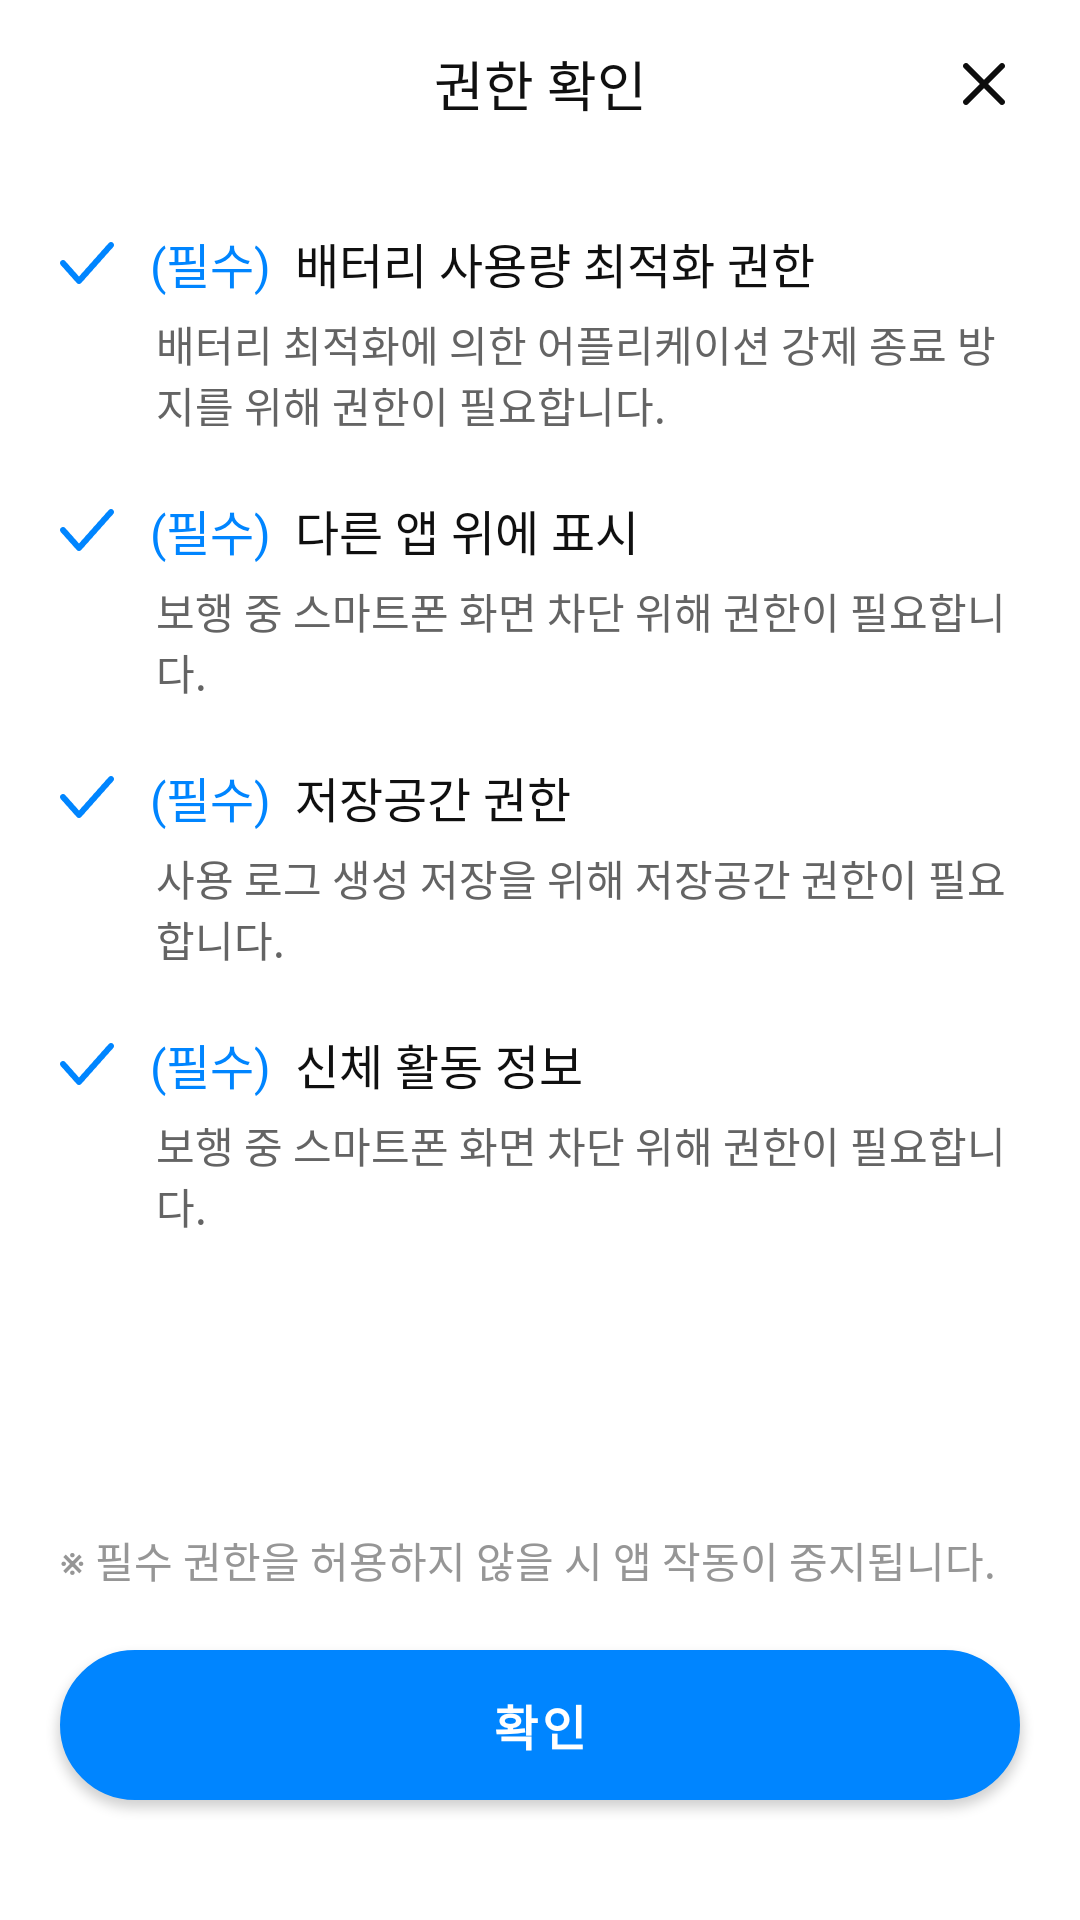

Named icons in this screenshot (1080px×1920px) and their bounding boxes, (x1, y1, x2, y2):
close: (963, 63, 1005, 105)
